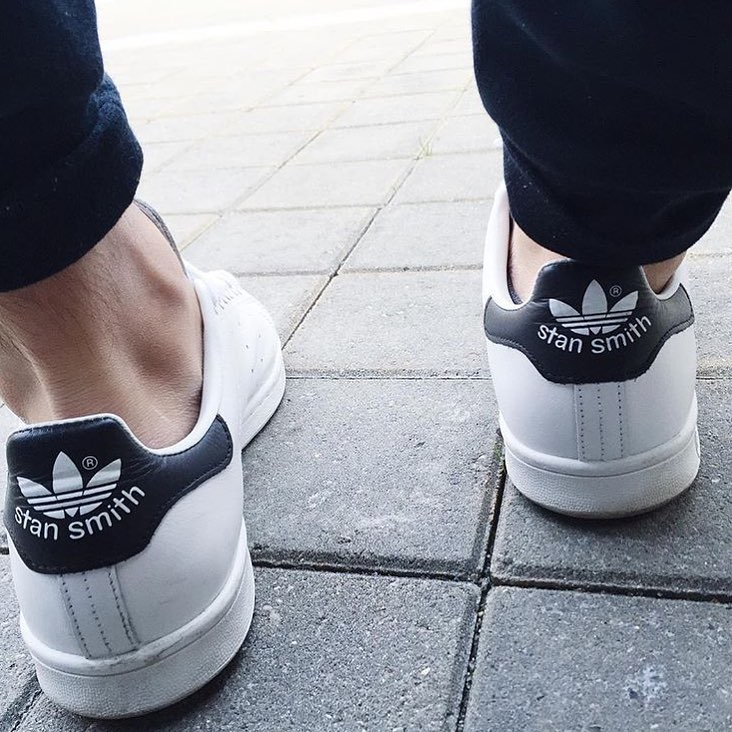sneaker: (1, 138, 361, 727), (441, 124, 732, 561)
